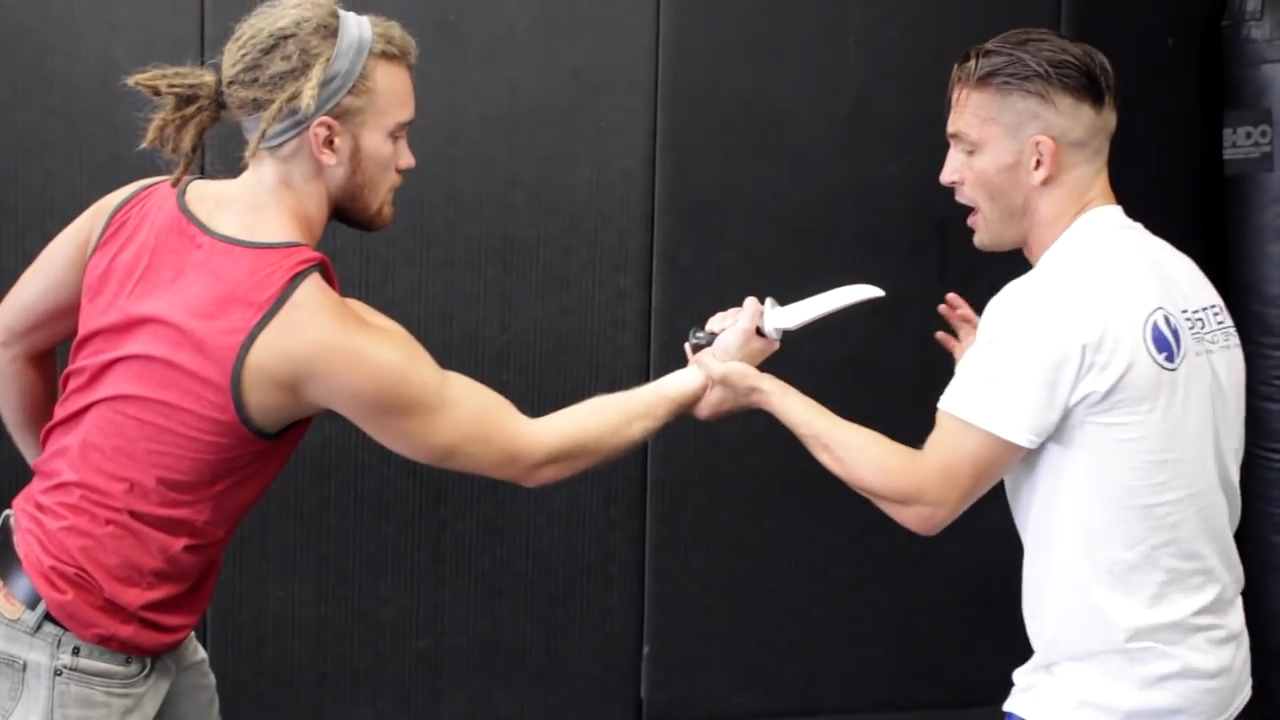knife: (676, 268, 902, 359)
